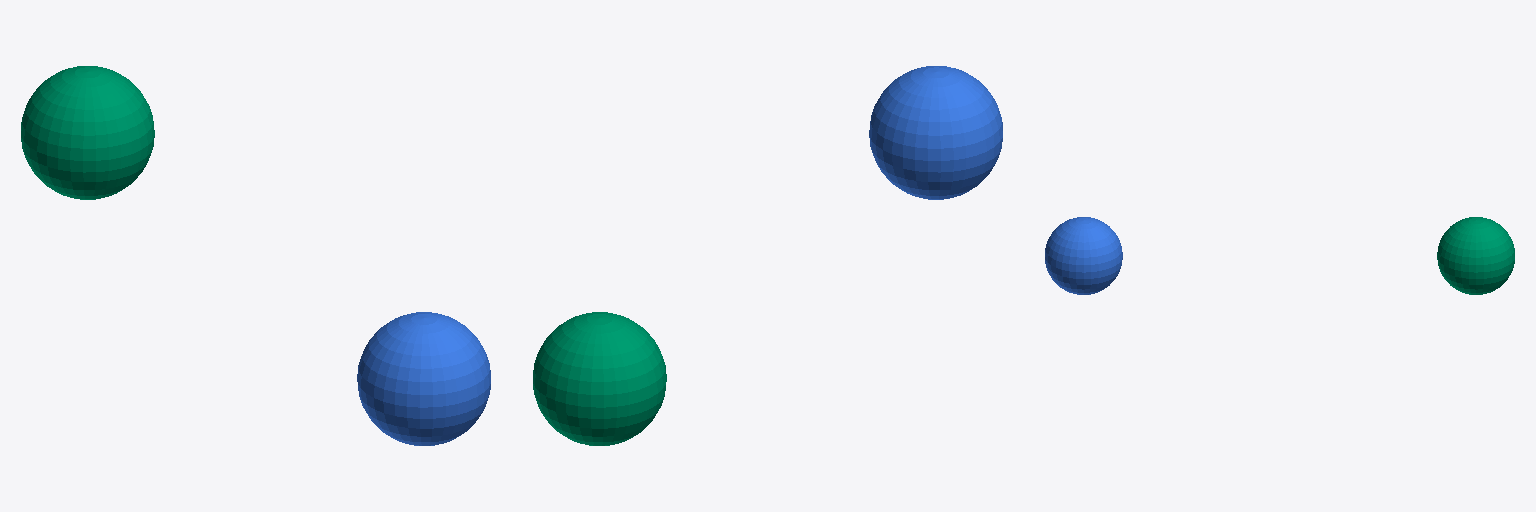
robot.urdf — pendulum:
<?xml version="1.0" encoding="utf-8"?>
<robot name="pendulum">
  <!--
  Author: [author] <[email redacted]>
  Contributers:
-->
  
  <link name="world"/>
  <material name="Blue">
    <color rgba="0.28 0.52 0.92 1.0"/>
  </material>
  <link name="link0">
    <visual>
      <geometry>
        <sphere radius="0.05"/>
      </geometry>
      <origin rpy="0 0 0" xyz="0 0.5 0"/>
      <material name="Blue"/>
    </visual>
    <collision>
      <geometry>
        <sphere radius="0.05"/>
      </geometry>
      <origin rpy="0 0 0" xyz="0 0.5 0"/>
    </collision>
    <inertial>
      <origin rpy="0 0 0" xyz="0.0 0.5 0"/>
      <mass value="1."/>
      <inertia ixx="0.00494875" ixy="0" ixz="0" iyy="0.00494174" iyz="0" izz="0.002219"/>
    </inertial>
  </link>
  <joint name="joint0" type="continuous">
    <parent link="world"/>
    <child link="link0"/>
    <origin rpy="0 0 0" xyz="0 0 0"/>
    <axis xyz="1 0 0"/>
    <dynamics damping="1.0" friction="1.0"/>
  </joint>
  <link name="link1">
    <visual>
      <geometry>
        <sphere radius="0.05"/>
      </geometry>
      <origin rpy="0 0 0" xyz="0 0.5 0"/>
      <material name="Red"/>
    </visual>
    <collision>
      <geometry>
        <sphere radius="0.05"/>
      </geometry>
      <origin rpy="0 0 0" xyz="0 0.5 0"/>
    </collision>
    <inertial>
      <origin rpy="0 0 0" xyz="0 0.5 0"/>
      <mass value="2.16"/>
      <inertia ixx="0.00539427" ixy="0" ixz="0" iyy="0.0048979" iyz="0" izz="0.00311573"/>
    </inertial>
  </link>
  <joint name="joint1" type="continuous">
    <parent link="link0"/>
    <child link="link1"/>
    <origin rpy="0 0 0" xyz="0 0.5 0"/>
    <axis xyz="1 0 0"/>
    <dynamics damping="1.0" friction="1.0"/>
  </joint>

 <link name="link-1">
    <visual>
      <geometry>
        <sphere radius="0.05"/>
      </geometry>
      <origin rpy="0 0 0" xyz="0 0. 0"/>
      <material name="Red"/>
    </visual>
    <inertial>
      <origin rpy="0 0 0" xyz="0 0. 0"/>
      <mass value="0.01"/>
      <inertia ixx="0.0001" ixy="0" ixz="0" iyy="0.0001" iyz="0" izz="0.0001"/>
    </inertial>
  </link>
  <joint name="jointfix" type="fixed">
    <parent link="link1"/>
    <child link="link-1"/>
    <dynamics damping="1.0" friction="0.0001"/>
    <origin rpy="0.00000 -0.00000 0.00000" xyz="0 0.5 0"/>
    <axis xyz="0.00000 0.00000 0.00000"/>
  </joint>
</robot>

--- What the picture shows (computed from the rendered views, not written in the file) ---
The picture shows the robot from 3 angles, left to right: view 1: azimuth 30°, elevation 25°; view 2: azimuth 150°, elevation 25°; view 3: azimuth 270°, elevation 25°; orthographic projection.
Model pendulum with 4 links and 3 joints (2 continuous, 1 fixed), rooted at world, posed all joints at 0.
Visible links, largest first — view 1: link0, link1; view 2: link0, link1; view 3: link0, link1.
Link boxes in pixels (left/top/right/bottom): link0: left=357, top=312, right=490, bottom=445; link1: left=21, top=66, right=154, bottom=199; link0: left=869, top=66, right=1002, bottom=199; link1: left=533, top=312, right=666, bottom=445; link0: left=1045, top=217, right=1122, bottom=294; link1: left=1437, top=217, right=1514, bottom=294.
Bounding box of the posed robot: 0.1 × 0.6 × 0.1 m (x, y, z).
Geometry: primitives only (box / cylinder / sphere), no mesh files.